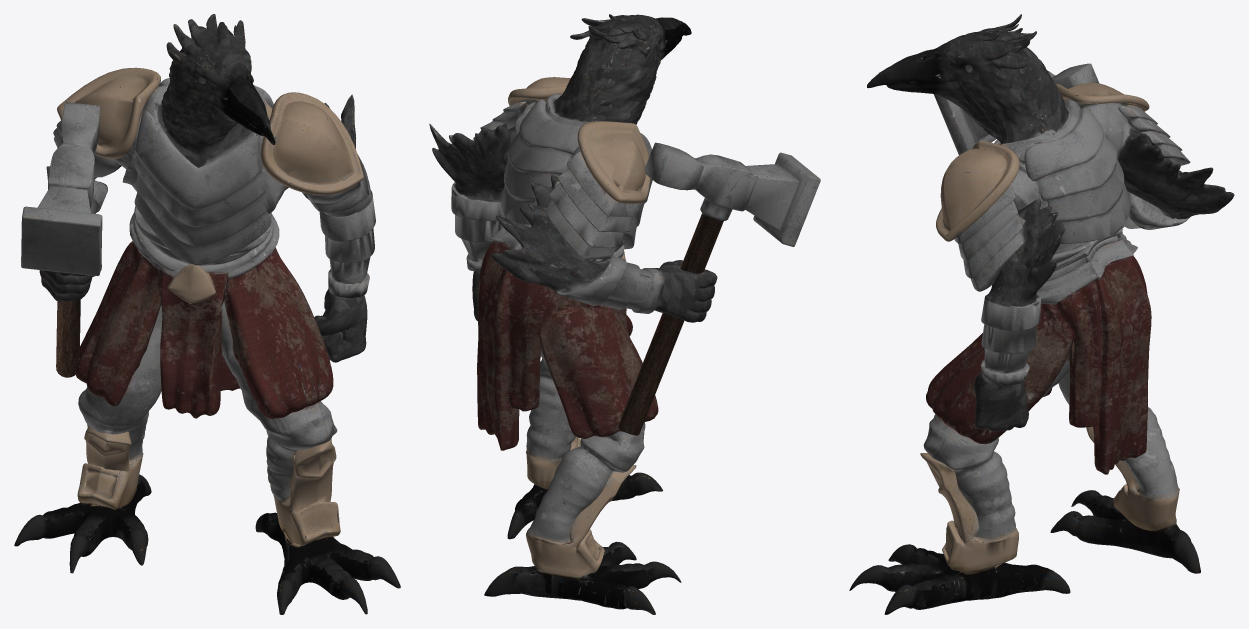
File: MZ4250 - Clonk.glb
3 renders of one model, left to right at view 1: azimuth 30°, elevation 25°; view 2: azimuth 150°, elevation 25°; view 3: azimuth 270°, elevation 25°, orthographic. The views are drawn at different scales.
Visible parts, largest first — view 1: Clonk.001; view 2: Clonk.001; view 3: Clonk.001.
Boxes of the visible parts, box(x1,y1,x2,y2) form: Clonk.001: box(14, 14, 400, 614); Clonk.001: box(429, 14, 820, 614); Clonk.001: box(849, 14, 1234, 614).
Size of the model in its own units: 2599 by 3657 by 2418.
Materials: 1 (1 with a texture image).
